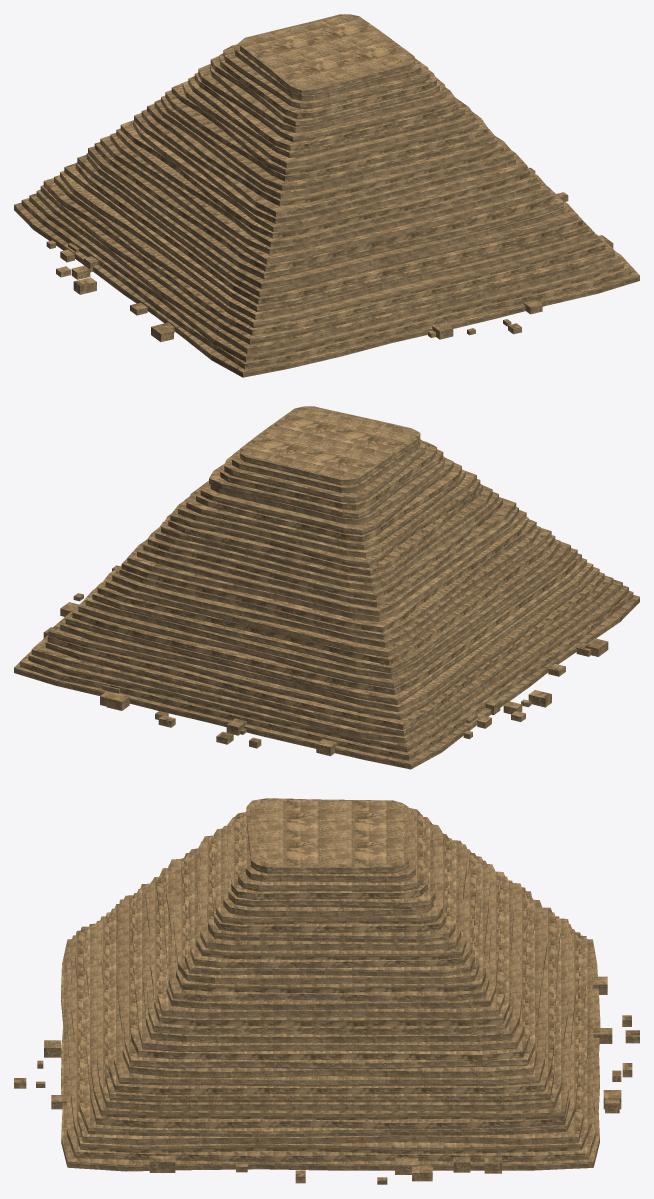
Rendered from giza_g1b.glb.
3 views of the same model, one above another, from view 1: azimuth 30°, elevation 25°; view 2: azimuth 150°, elevation 25°; view 3: azimuth 270°, elevation 25° (orthographic). The views are drawn at different scales.
Visible parts, largest first — view 1: g1b; view 2: g1b; view 3: g1b.
Boxes of the visible parts, x1=… form: g1b: x1=14, y1=14, x2=639, y2=377; g1b: x1=14, y1=406, x2=639, y2=769; g1b: x1=14, y1=798, x2=639, y2=1184.
Bounding box in the file's own units: 54.05 × 21.6 × 54.98.
Materials: 1 (1 with a texture image).
